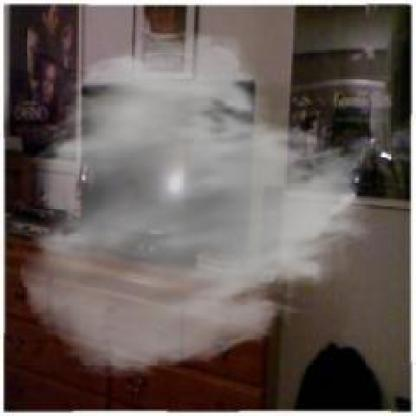Smoke: (17, 28, 382, 380)
